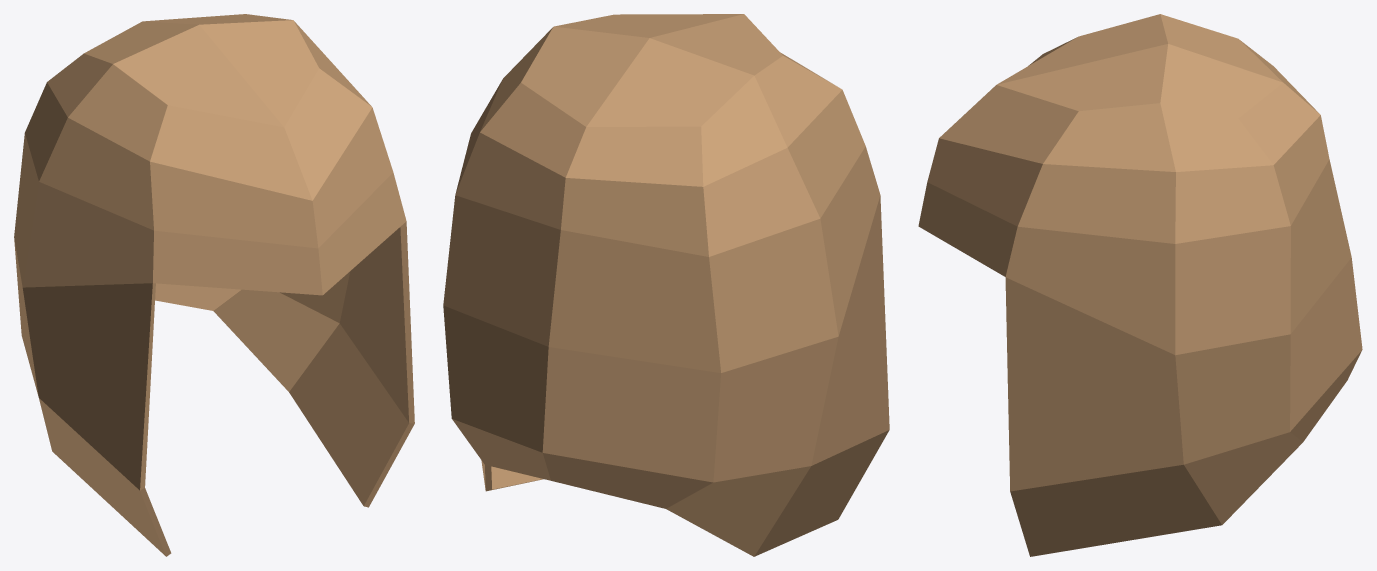
The model's file is aline_bob.glb.
The picture shows the model from 3 angles, left to right: view 1: azimuth 30°, elevation 25°; view 2: azimuth 150°, elevation 25°; view 3: azimuth 270°, elevation 25°; orthographic projection. The views are drawn at different scales.
Parts seen in each view (by area): view 1: A-Line Bob.001; view 2: A-Line Bob.001; view 3: A-Line Bob.001.
Boxes of the visible parts, x1=… form: A-Line Bob.001: x1=14, y1=14, x2=414, y2=556; A-Line Bob.001: x1=443, y1=14, x2=889, y2=556; A-Line Bob.001: x1=918, y1=14, x2=1362, y2=556.
Size of the model in its own units: 0.6194 by 0.7821 by 0.6797.
